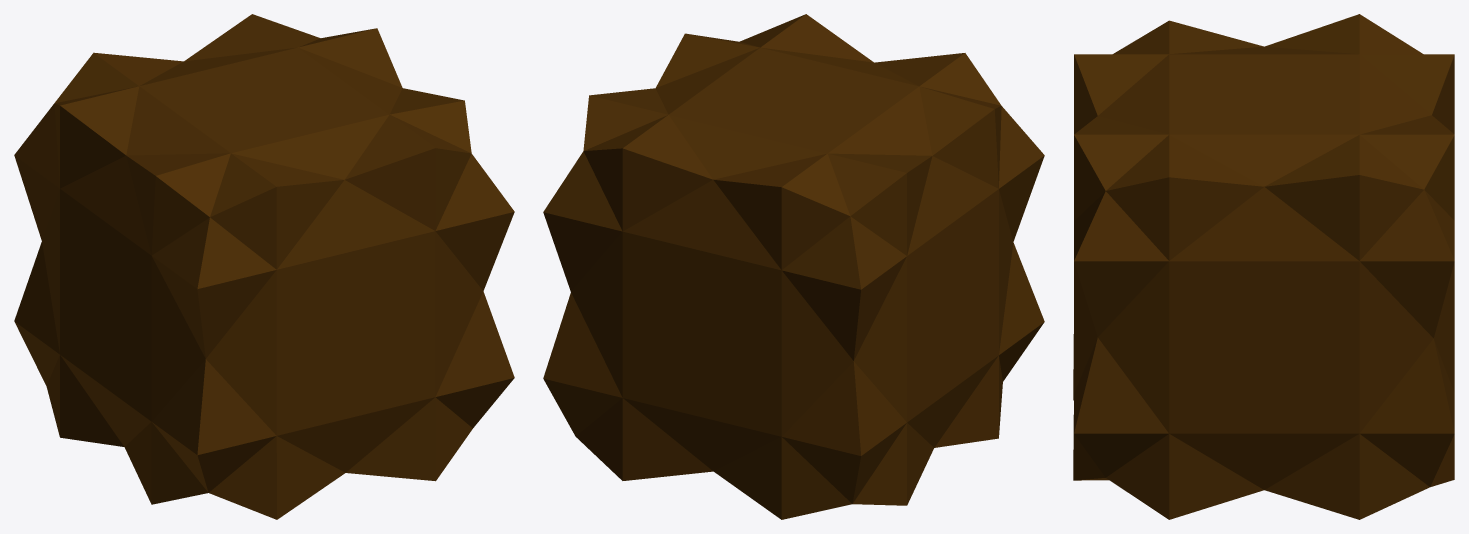
Rendered from Wall.dae.
3 views of the same model, side by side, from view 1: azimuth 30°, elevation 25°; view 2: azimuth 150°, elevation 25°; view 3: azimuth 270°, elevation 25° (orthographic). The views are drawn at different scales.
Parts seen in each view (by area): view 1: Cube; view 2: Cube; view 3: Cube.
Part boxes in pixels (x1,y1,x2,y2): Cube: (14, 14, 514, 519); Cube: (543, 14, 1044, 519); Cube: (1073, 14, 1454, 519).
Size of the model in its own units: 2 by 2 by 2.
